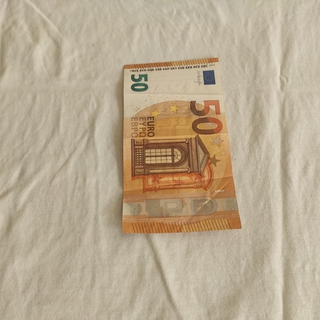50EUROFront: (121, 56, 242, 234)
